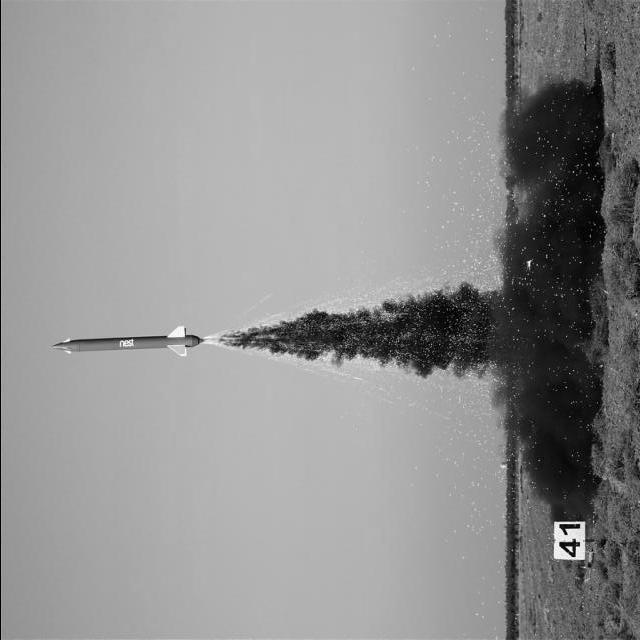missile: (40, 323, 207, 361)
